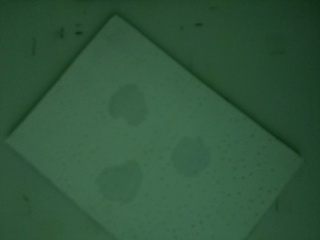Water_detected: (100, 169, 136, 194), (111, 95, 141, 118), (177, 145, 205, 169)
